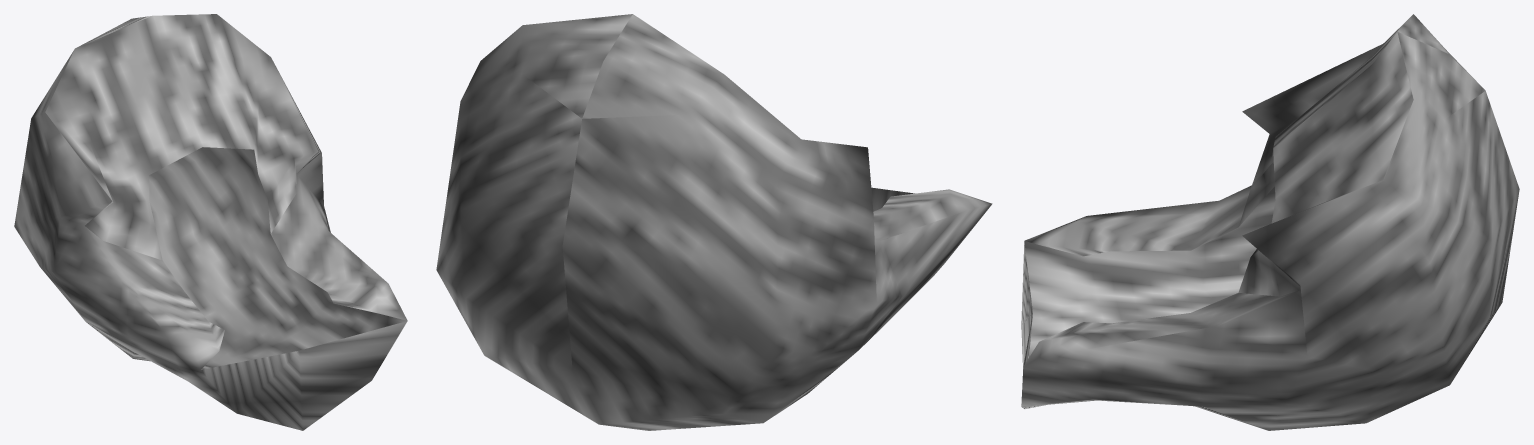
File: Wig_F_Hair_Hat.fbx
The picture shows the model from 3 angles, left to right: view 1: azimuth 30°, elevation 25°; view 2: azimuth 150°, elevation 25°; view 3: azimuth 270°, elevation 25°; orthographic projection. The views are drawn at different scales.
Parts seen in each view (by area): view 1: BoxOfJars003; view 2: BoxOfJars003; view 3: BoxOfJars003.
Boxes of the visible parts, <box> form: BoxOfJars003: <box>14,14,407,430</box>; BoxOfJars003: <box>436,14,992,430</box>; BoxOfJars003: <box>1021,14,1519,430</box>.
Bounding box in the file's own units: 10.95 × 11.97 × 14.12.
